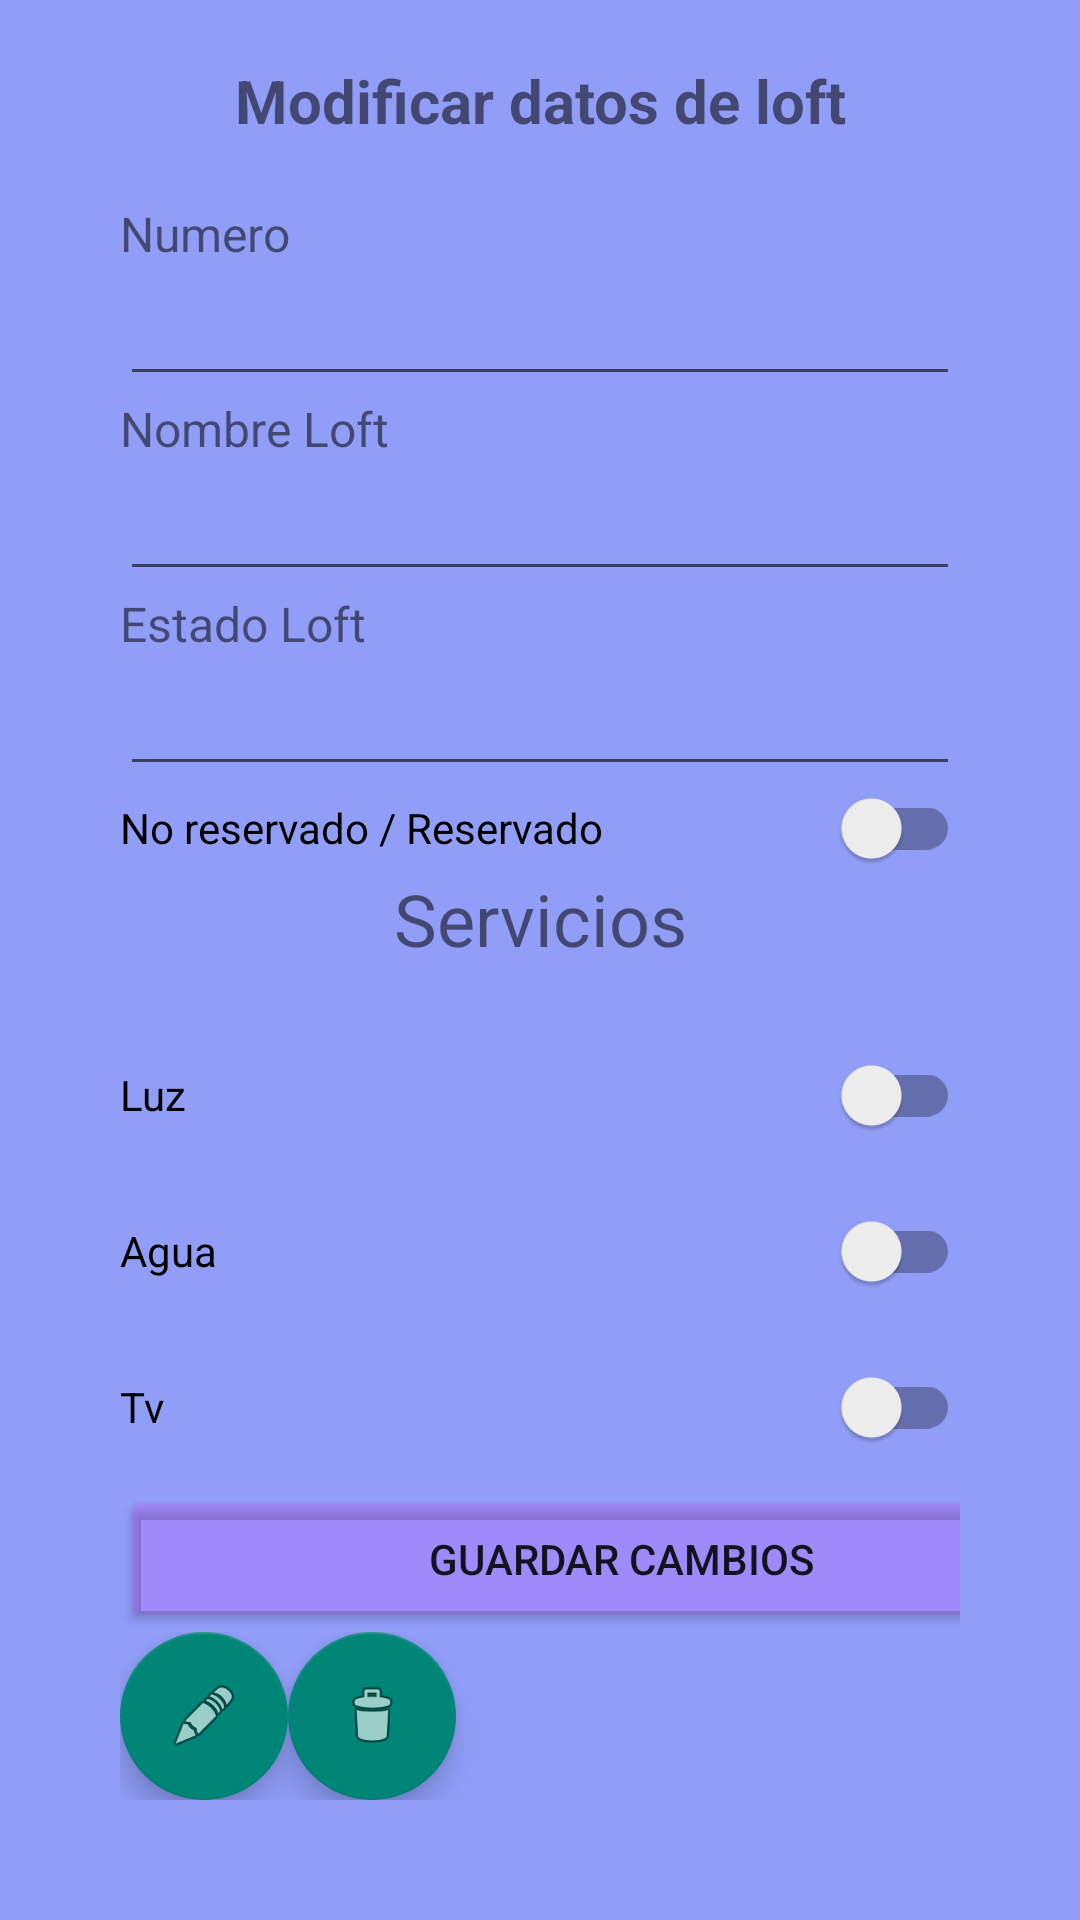

Screen size 1080px×1920px. Icon name, then its center in pixels as point (x, y):
delete: point (372, 1716)
edit: point (204, 1716)
